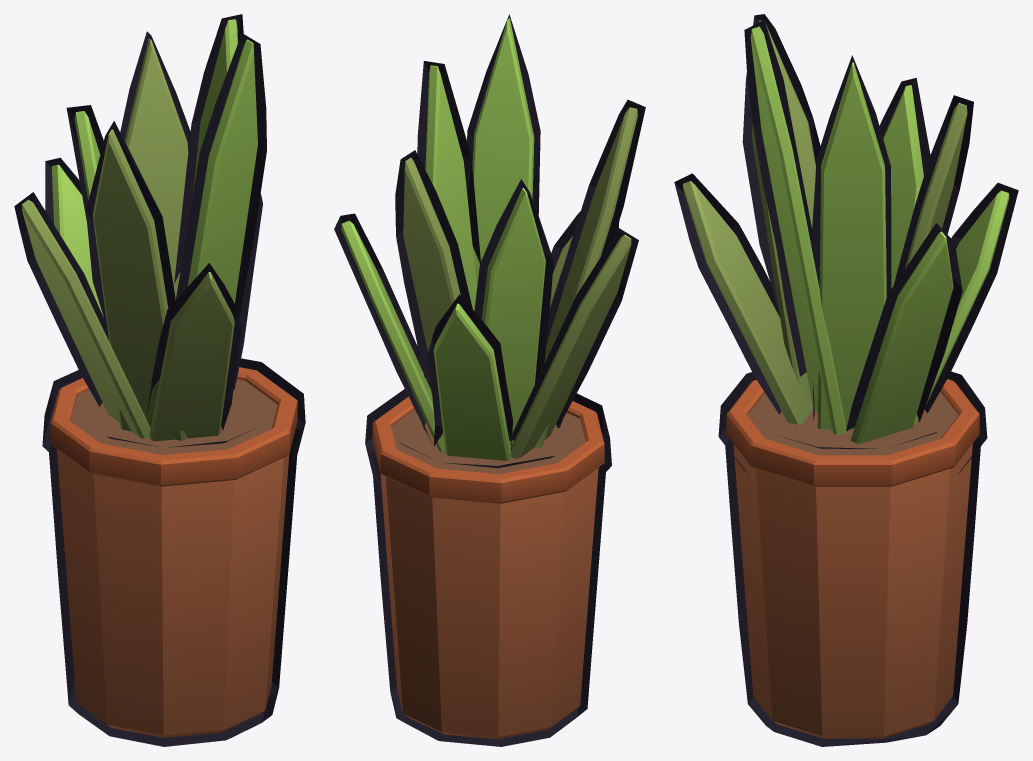
File: Plant_Tall_Outline.fbx
3 renders of one model, left to right at view 1: azimuth 30°, elevation 25°; view 2: azimuth 150°, elevation 25°; view 3: azimuth 270°, elevation 25°, orthographic. The views are drawn at different scales.
Parts seen in each view (by area): view 1: Plant_Tall; view 2: Plant_Tall; view 3: Plant_Tall.
Boxes of the visible parts, box(x1,y1,x2,y2) form: Plant_Tall: box(14, 14, 305, 746); Plant_Tall: box(334, 14, 645, 746); Plant_Tall: box(674, 14, 1018, 746).
Size of the model in its own units: 2.01 by 4.89 by 2.18.
1 material, 1 textured.
